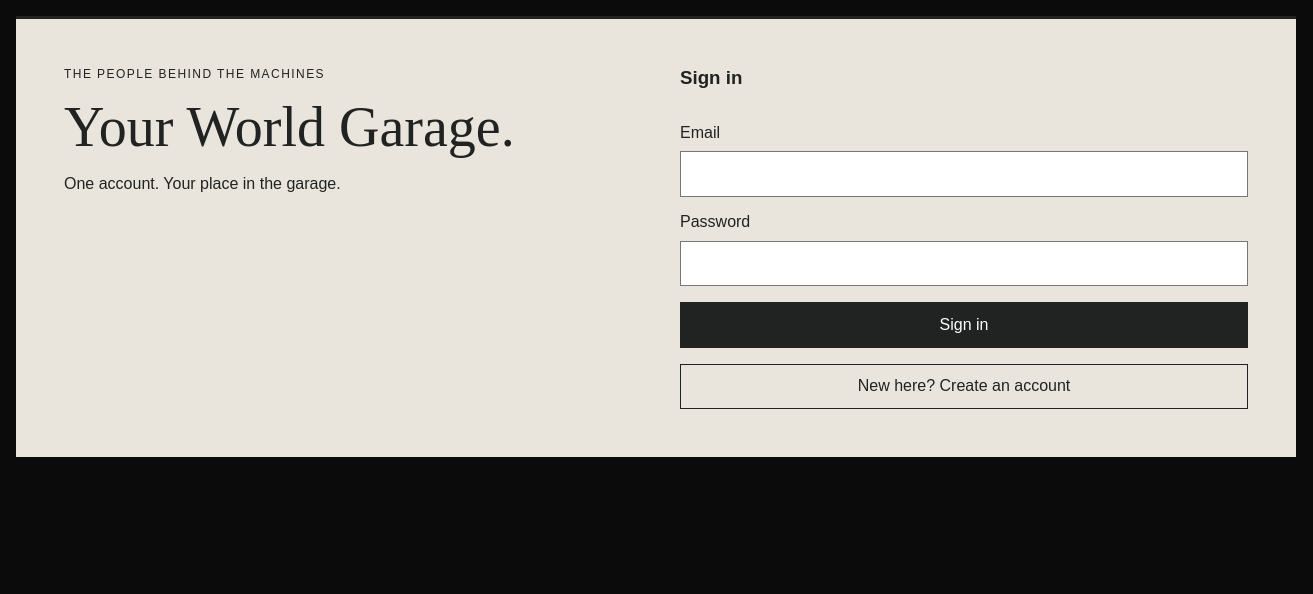
Scenario: account authentication › registers and prompts for login without pretending to be signed in
Click the button with class "account-switch" at [964, 386], box [680, 364, 1248, 409]
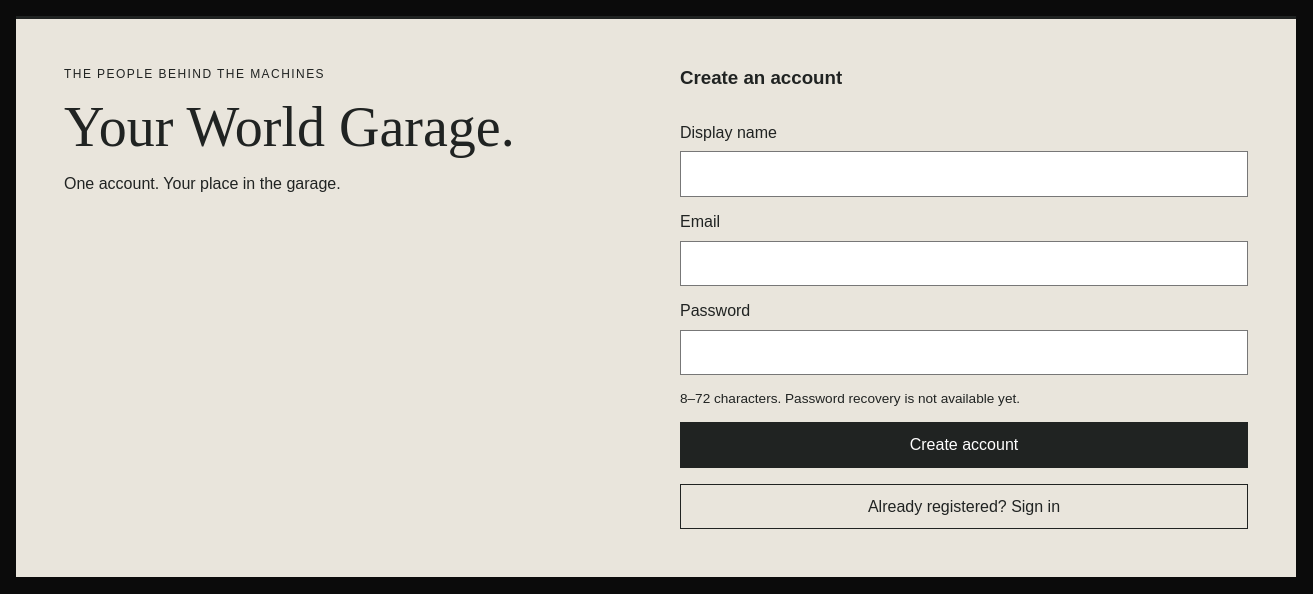
Type "Garage Owner" into the field with id "account-name" at [964, 174], box [680, 151, 1248, 197]
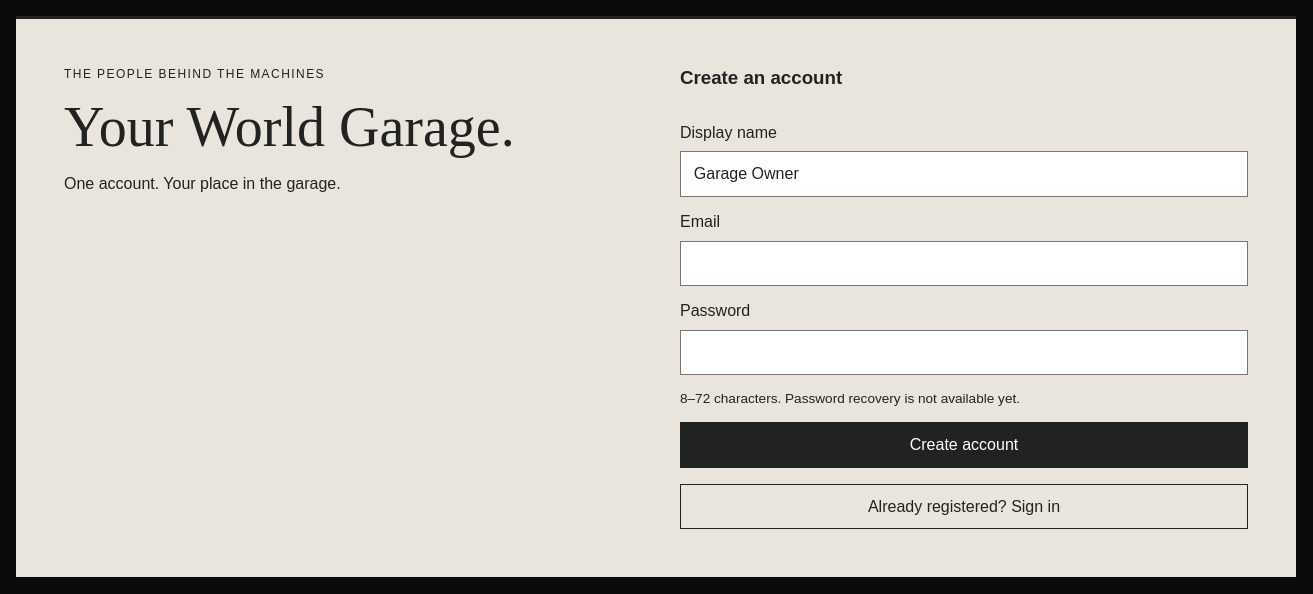
Type "owner@example.com" into the field with id "account-email" at [964, 263], box [680, 240, 1248, 286]
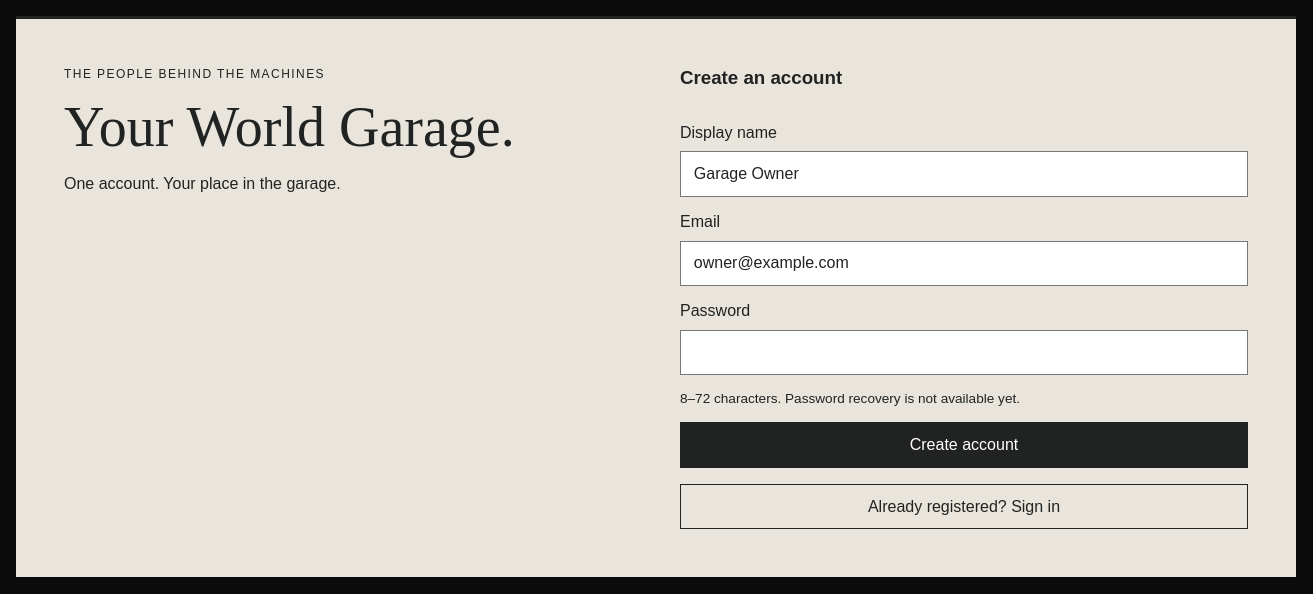
Type "Garage@2026" into the password field with id "account-password" at [964, 352], box [680, 330, 1248, 375]
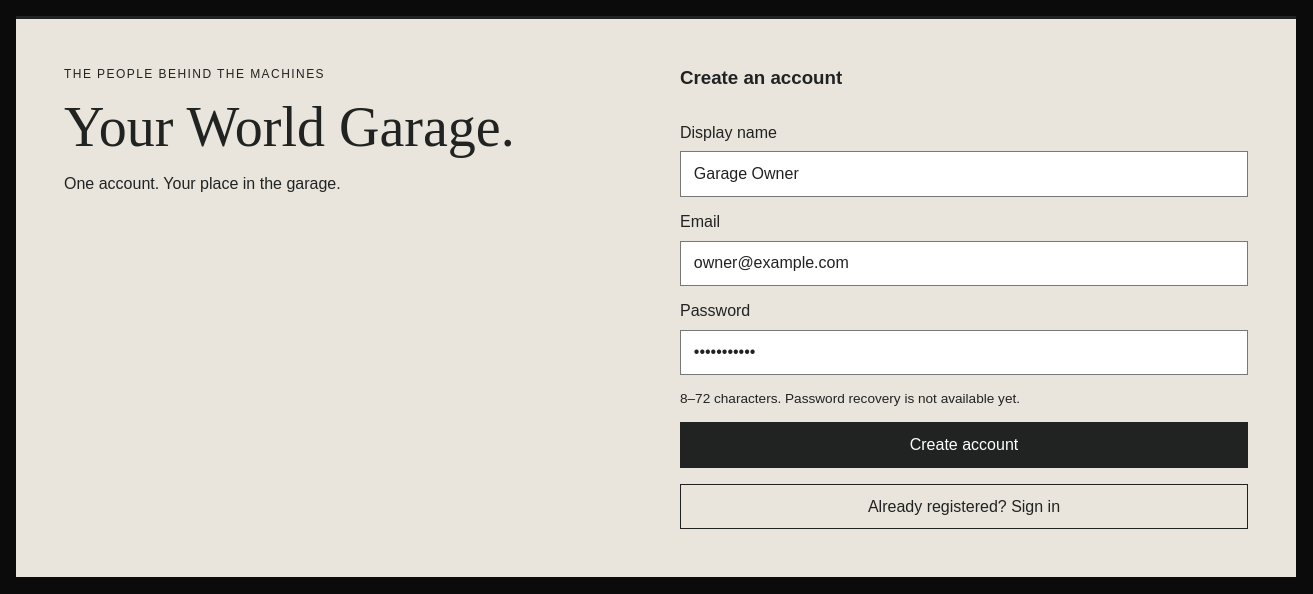
Submit the form, box [680, 67, 1248, 530]
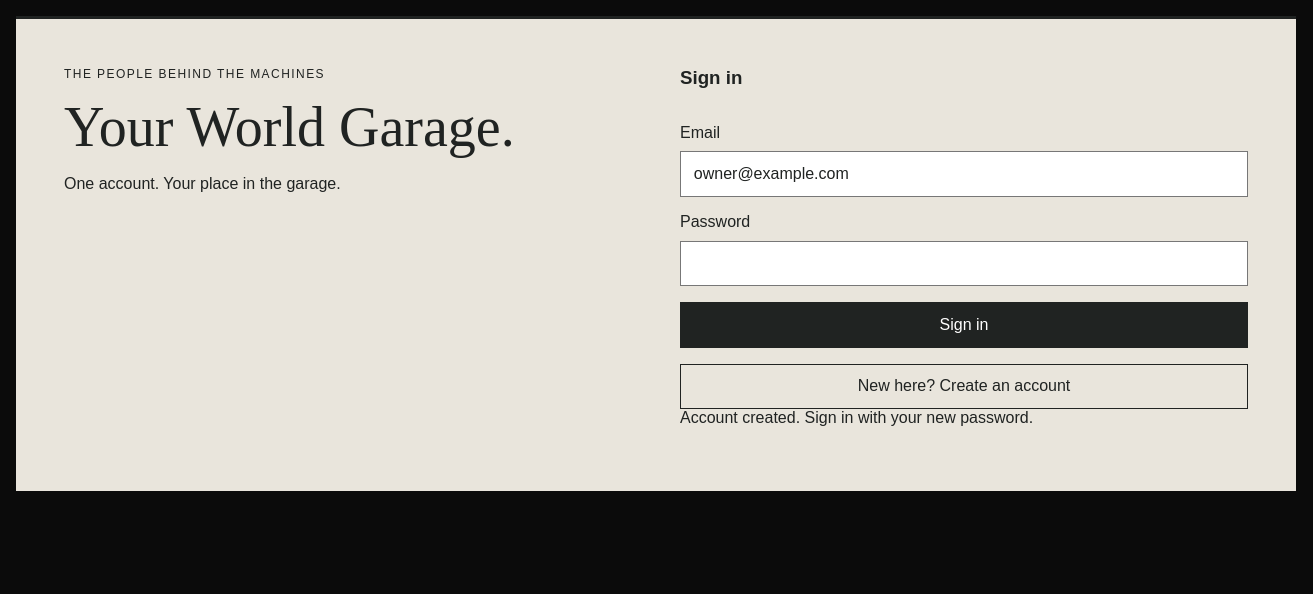
Expected: the text "Account created." is shown, [680, 409, 1033, 426]
Expected: the password field with id "account-password" is empty, [680, 240, 1248, 286]
